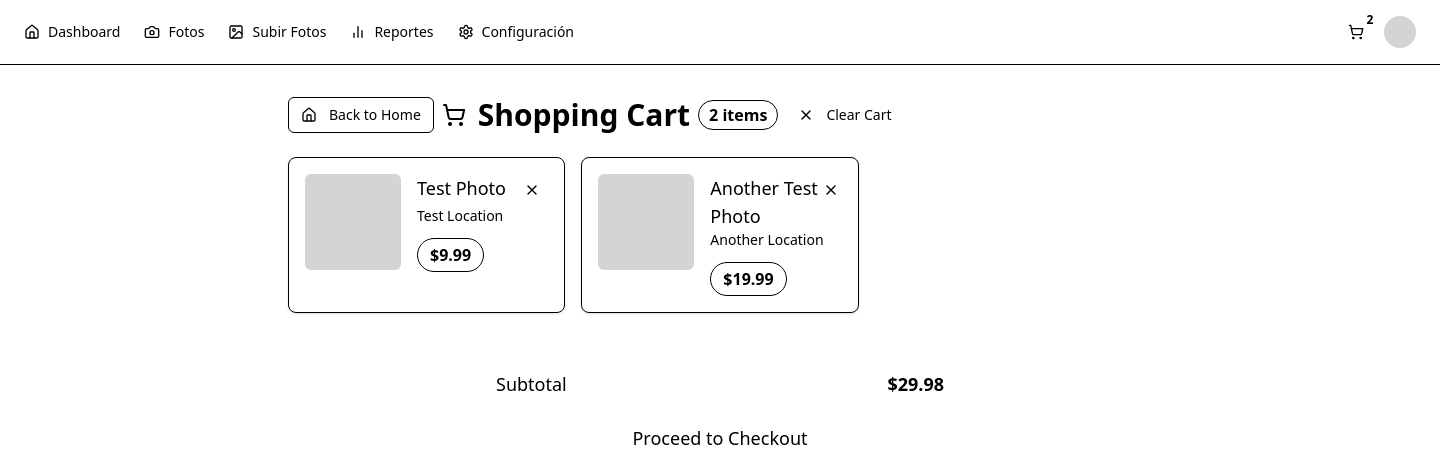
Scenario: Cart Integration › CartPage "Clear Cart" button empties the cart
# Find and click the "Clear Cart" button
Click the button "Clear Cart". click: (845, 115)
box: x1=786 y1=97 x2=904 y2=133
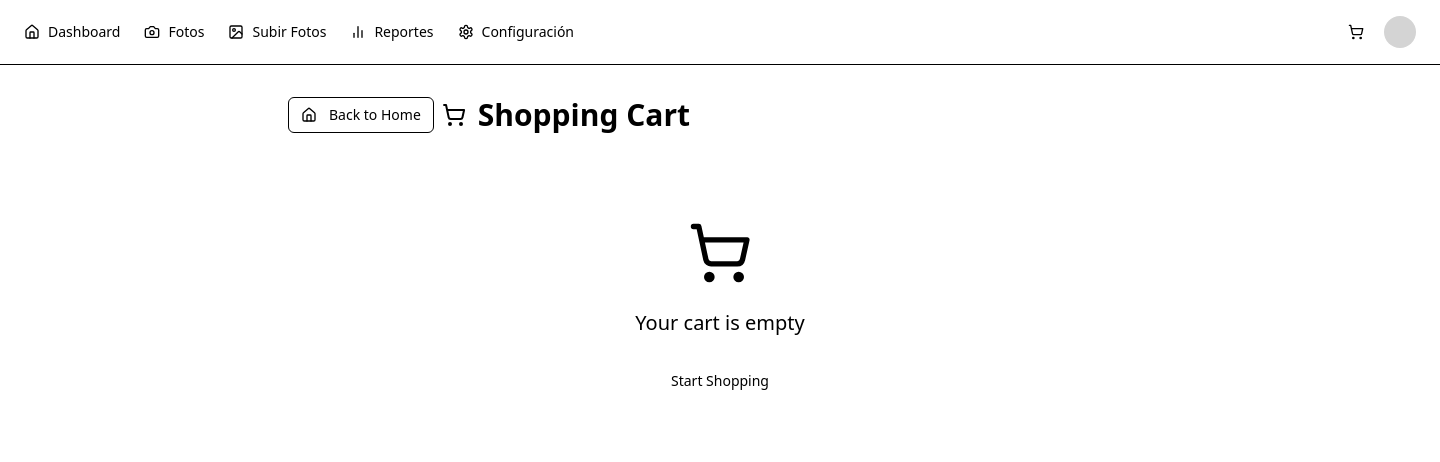
Expected: the text "Your cart is empty" is shown, x1=635 y1=309 x2=805 y2=337
